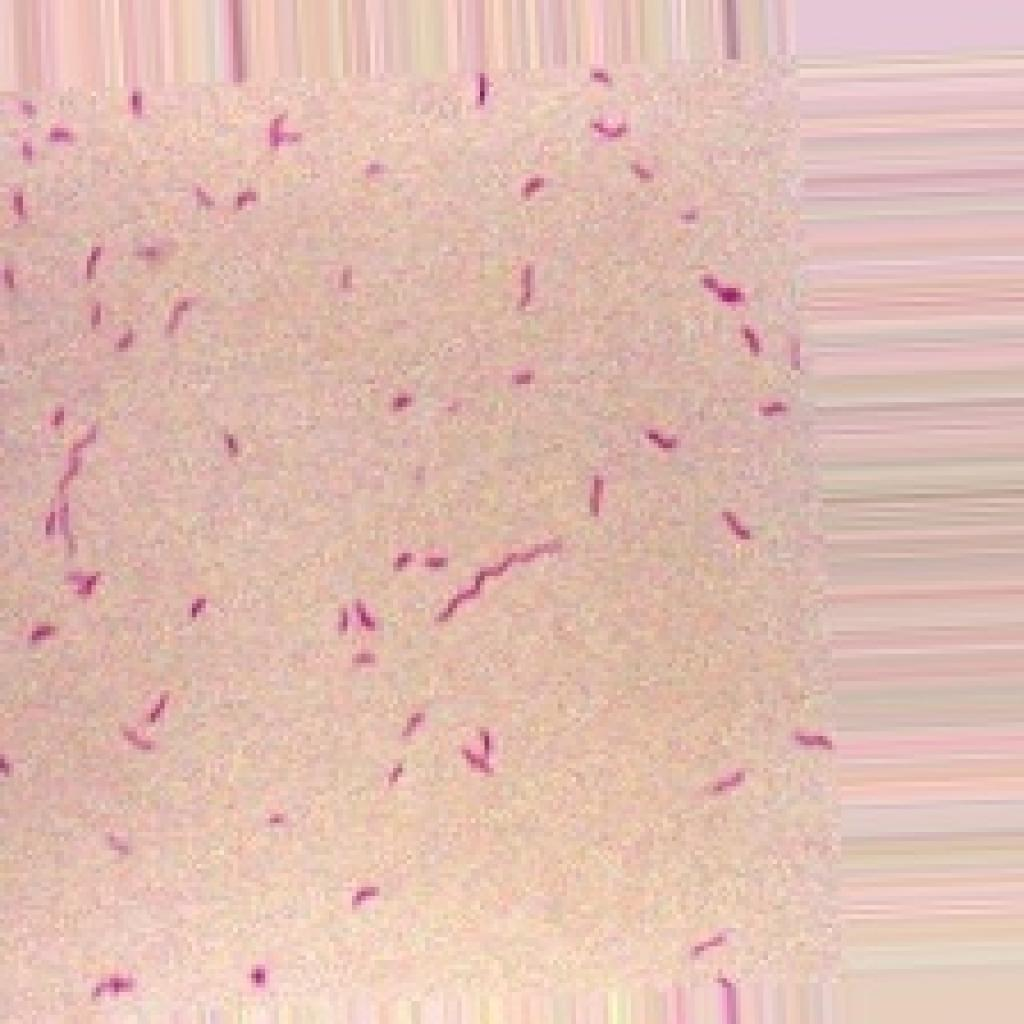Sprialbacteria: (0, 55, 846, 1019)
